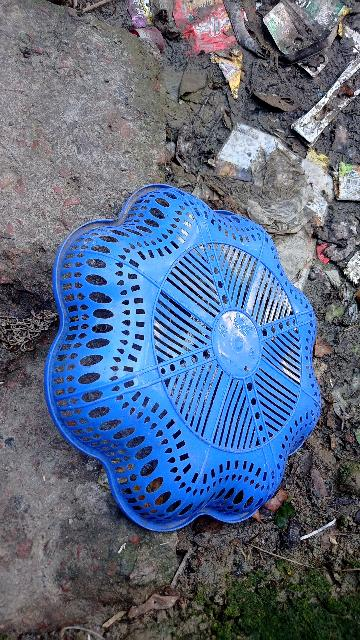hardplastic: (27, 150, 335, 535)
